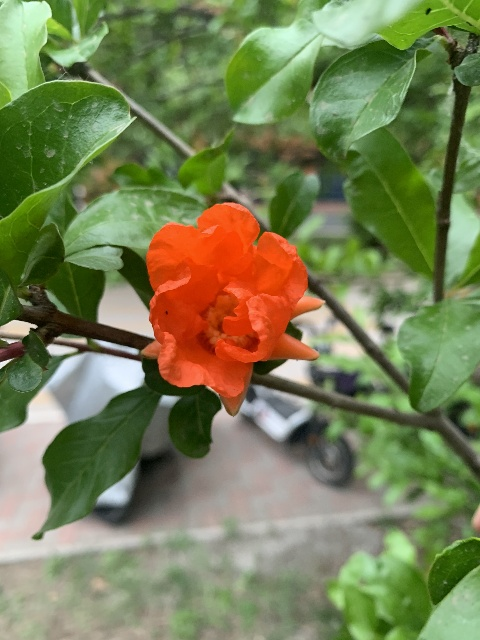flower: (142, 202, 323, 417)
